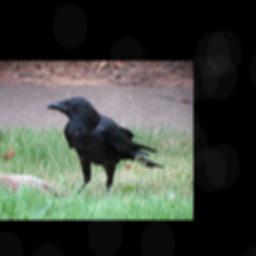Crow: (44, 96, 165, 196)
